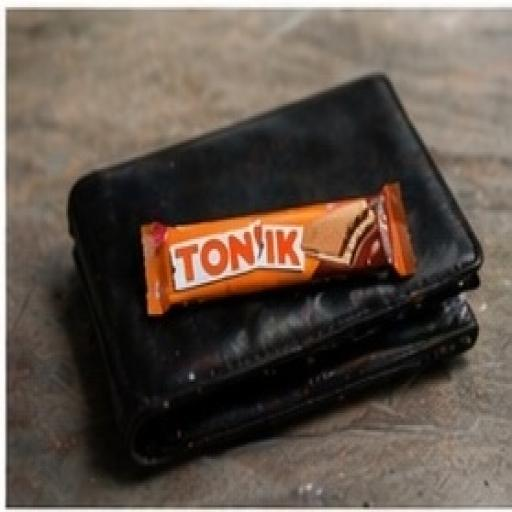tonik: (86, 160, 468, 426)
